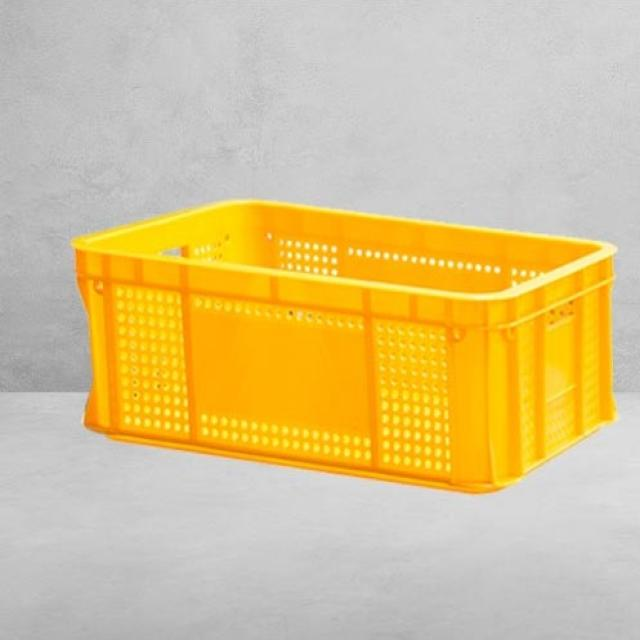basket: (48, 178, 637, 510)
